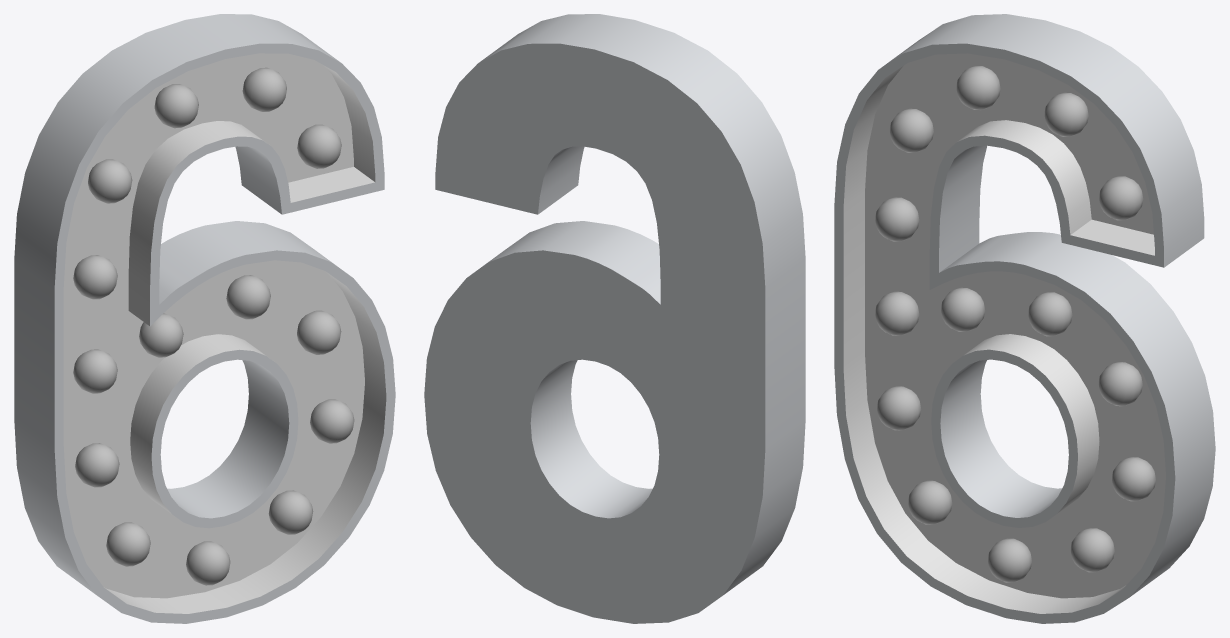
Rendered from LettersBulb01_6.FBX.
The picture shows the model from 3 angles, left to right: view 1: azimuth 30°, elevation 25°; view 2: azimuth 150°, elevation 25°; view 3: azimuth 330°, elevation 25°; orthographic projection.
Parts seen in each view (by area): view 1: LettersBulb01_6; view 2: LettersBulb01_6; view 3: LettersBulb01_6.
Boxes of the visible parts, box(x1,y1,x2,y2) form: LettersBulb01_6: box(14, 14, 395, 623); LettersBulb01_6: box(424, 14, 805, 623); LettersBulb01_6: box(834, 14, 1215, 623).
Size of what is drawn, in the model's own units: 0.7594 by 1.21 by 0.1563.
